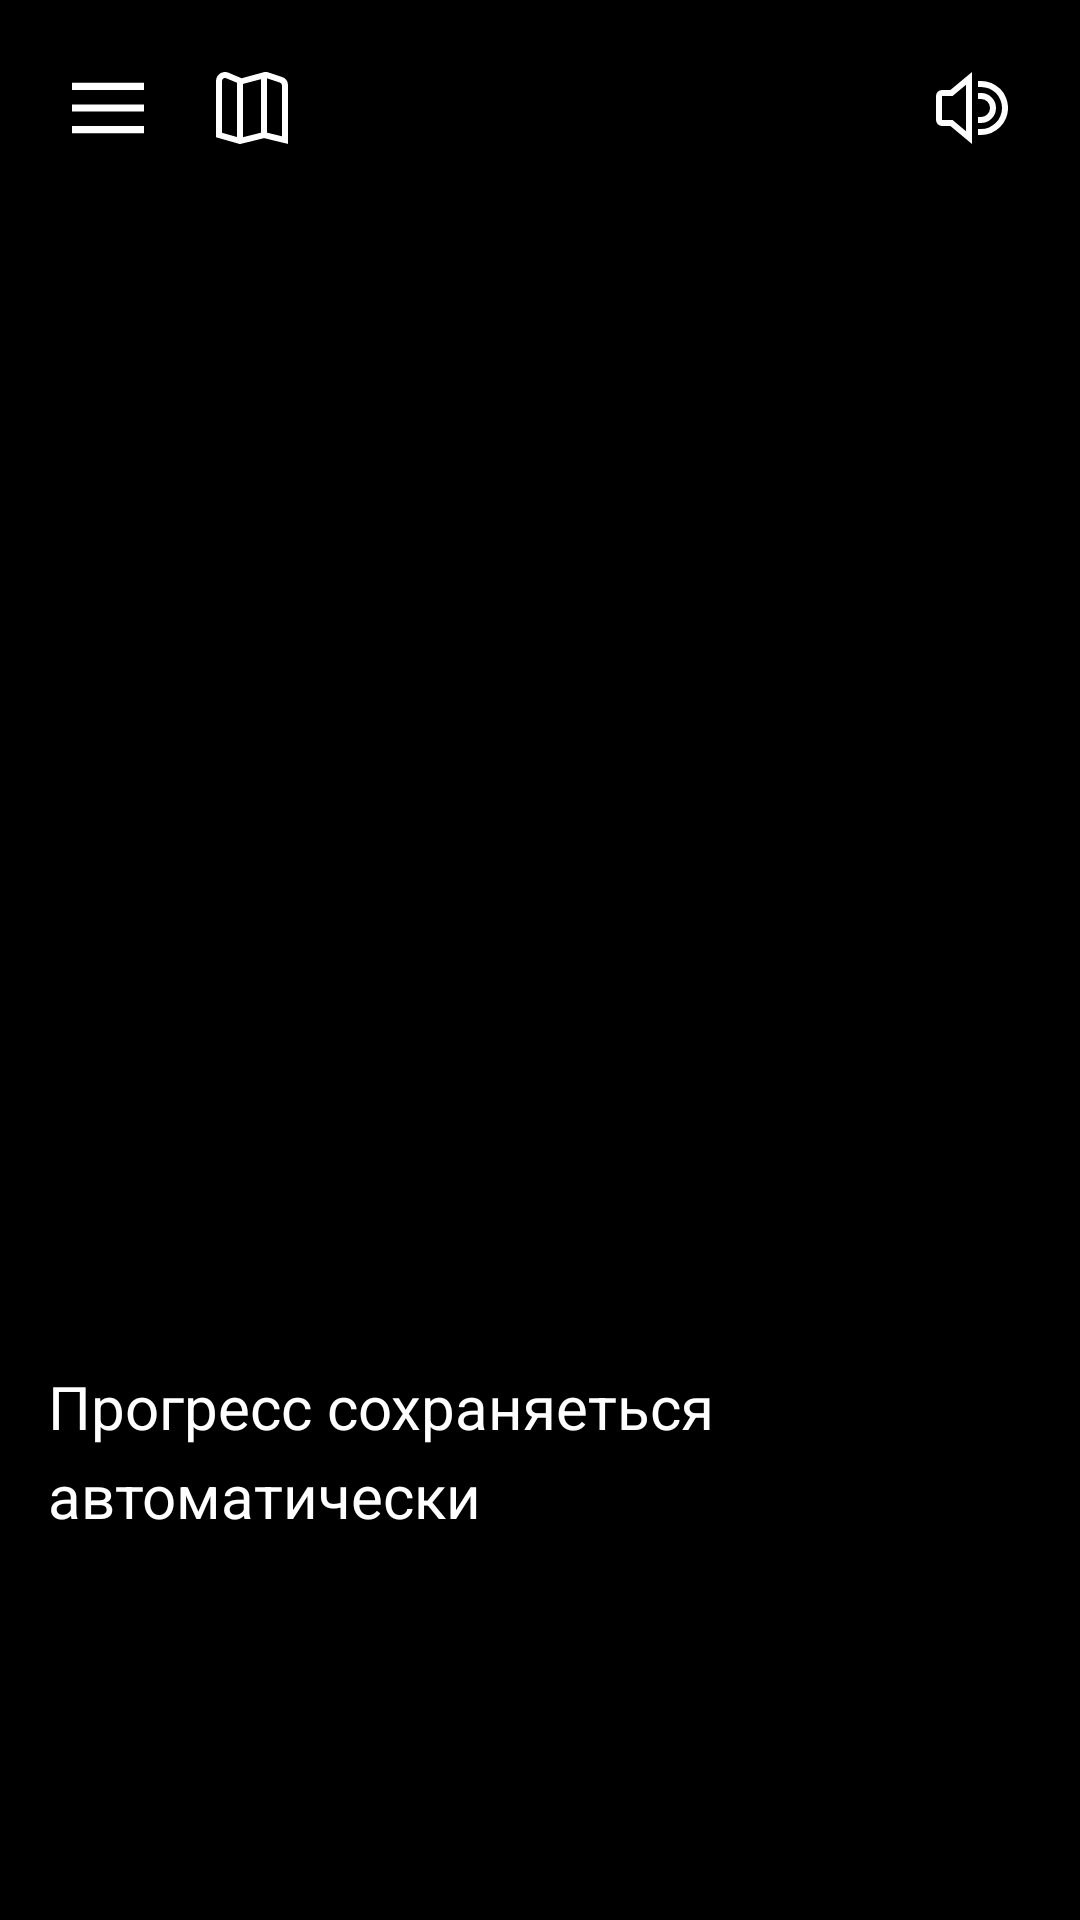

Named icons in this screenshot (1080px×1920px) and their centers, (x,y):
Map: (252,108)
Menu: (108,108)
Volume free: (972,108)
